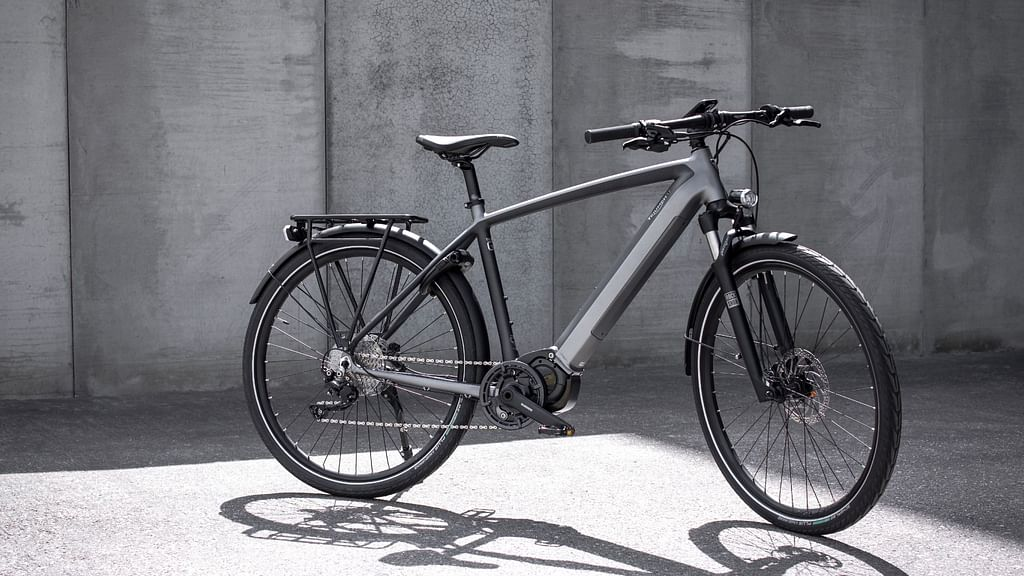bicycle: (242, 98, 905, 539)
